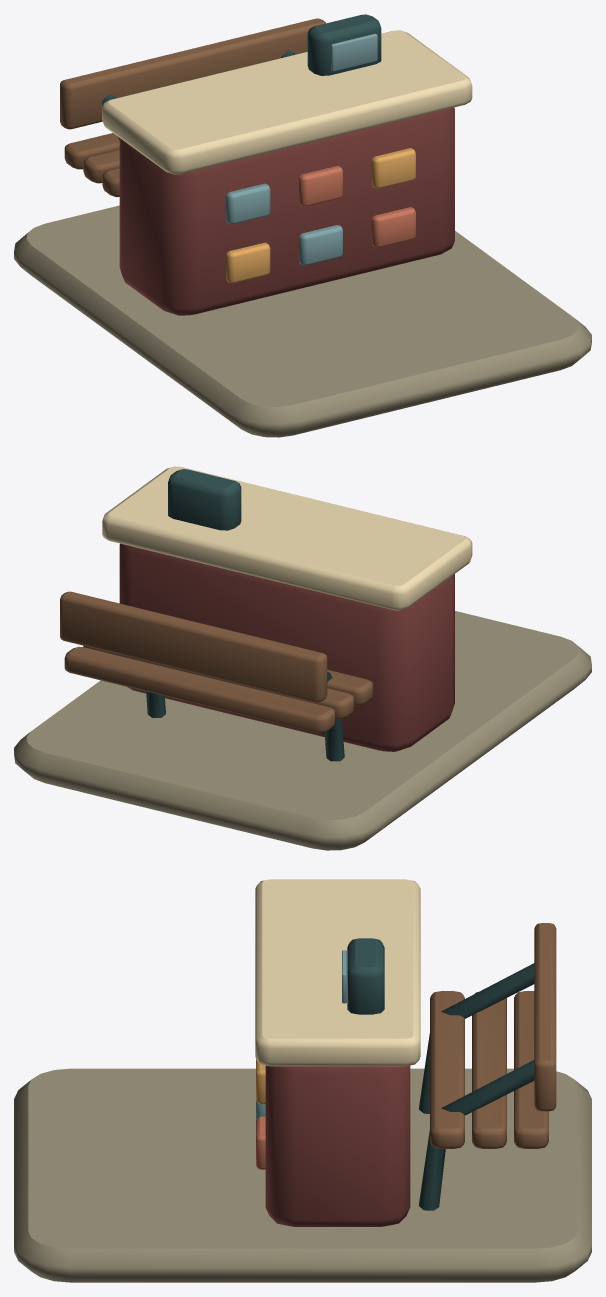
The model's file is route66_restaurant_1.glb.
3 renders of one model, top to bottom at view 1: azimuth 30°, elevation 25°; view 2: azimuth 150°, elevation 25°; view 3: azimuth 270°, elevation 25°, orthographic. The views are drawn at different scales.
Parts seen in each view (by area): view 1: Route66Restaurant1; view 2: Route66Restaurant1; view 3: Route66Restaurant1.
Boxes of the visible parts, bbox=[...] form: Route66Restaurant1: bbox=[14, 14, 591, 437]; Route66Restaurant1: bbox=[14, 466, 591, 850]; Route66Restaurant1: bbox=[14, 879, 591, 1282].
Size of the model in its own units: 1.95 by 1.32 by 2.48.
